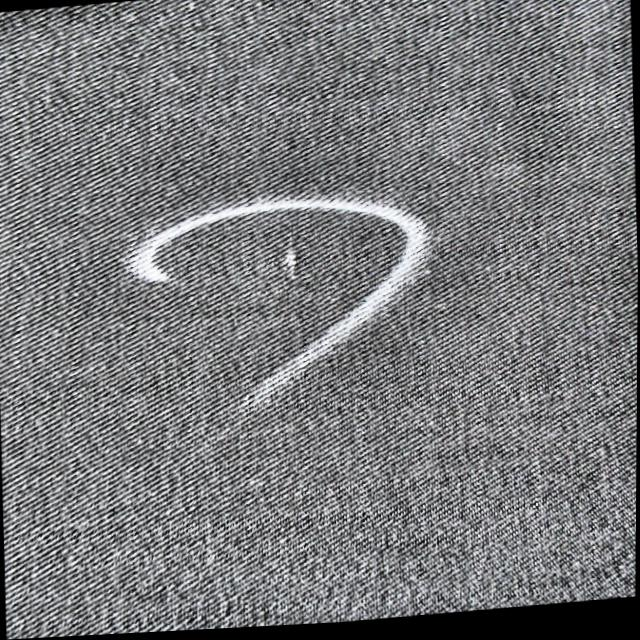Hole: (287, 256, 299, 282)
